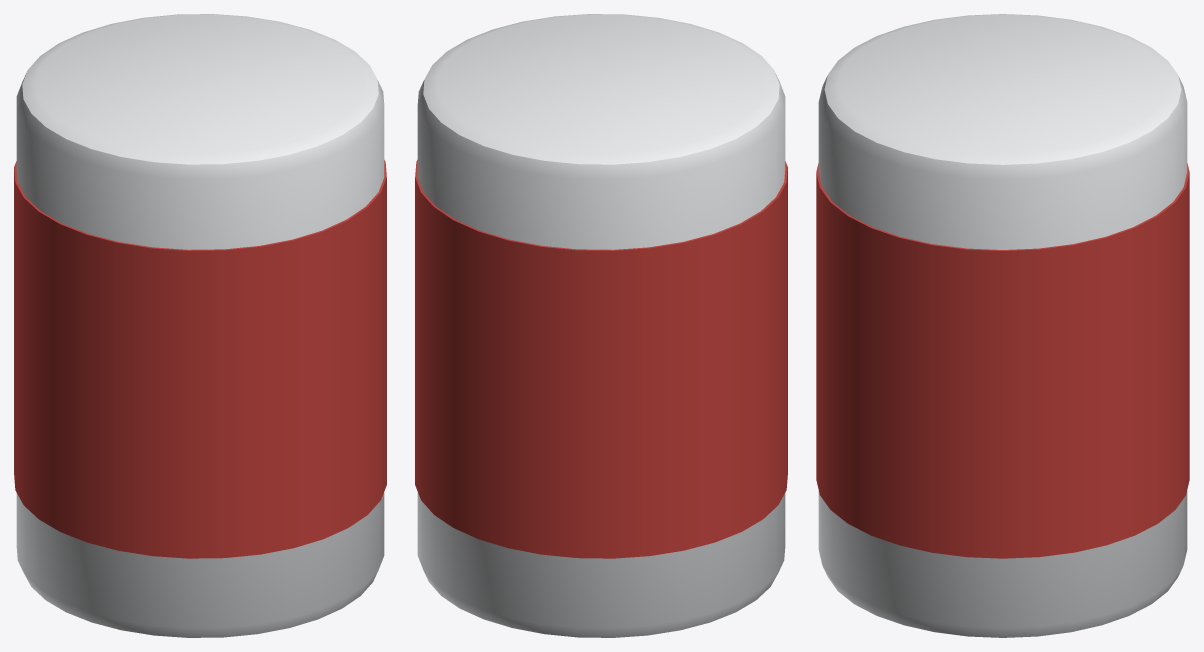
The model's file is can.glb.
3 renders of one model, left to right at view 1: azimuth 30°, elevation 25°; view 2: azimuth 150°, elevation 25°; view 3: azimuth 270°, elevation 25°, orthographic.
Visible parts, largest first — view 1: label, can; view 2: label, can; view 3: label, can.
Boxes of the visible parts, x1,y1,x2,y2 form: label: (14,160,386,558); can: (16,14,384,637); label: (415,160,787,558); can: (417,14,785,637); label: (816,163,1189,558); can: (818,14,1187,637).
Size of the model in its own units: 0.077 by 0.11 by 0.077.
